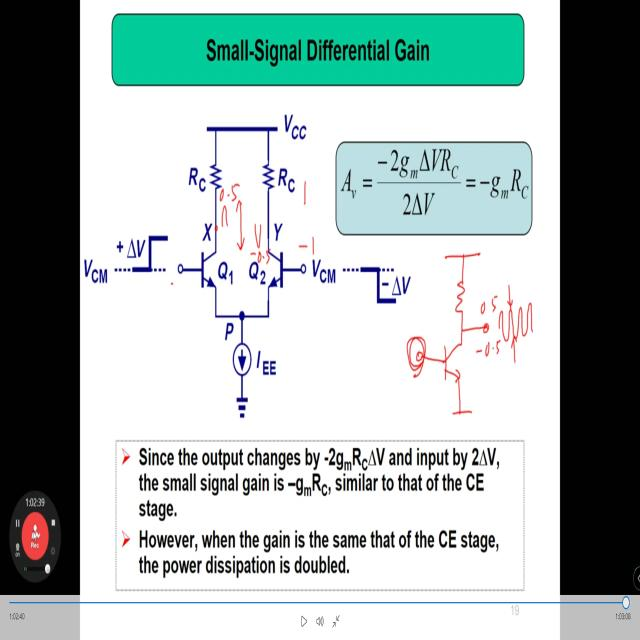panseo: (404, 236, 536, 438)
